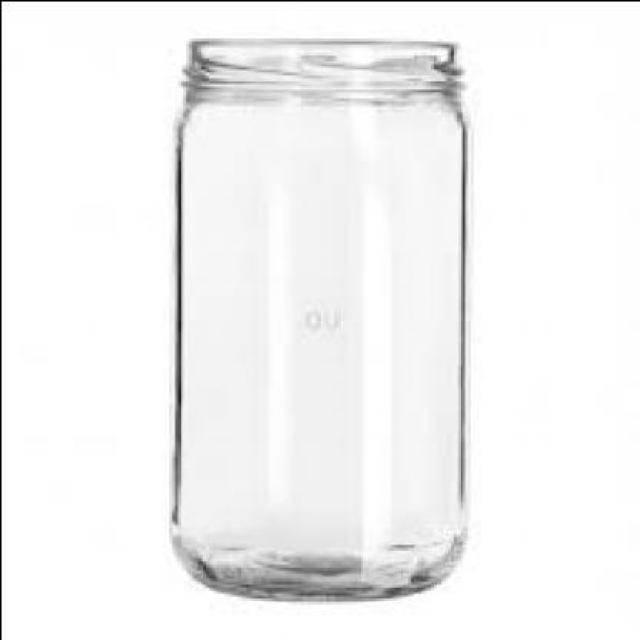GLASS: (171, 37, 469, 597)
